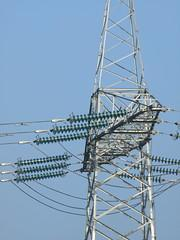power_tower: (47, 0, 180, 240)
